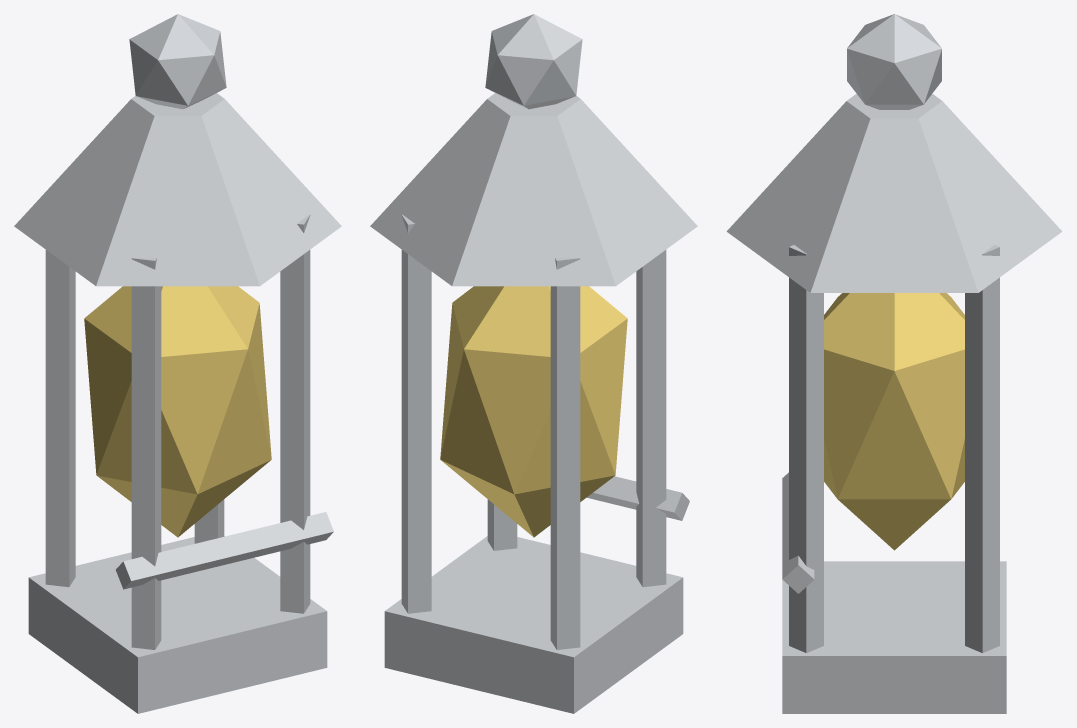
The model's file is ship_lantern.glb.
The picture shows the model from 3 angles, left to right: view 1: azimuth 30°, elevation 25°; view 2: azimuth 150°, elevation 25°; view 3: azimuth 270°, elevation 25°; orthographic projection. The views are drawn at different scales.
Parts seen in each view (by area): view 1: hood, glass, base.007, frame_0.001, frame_1.001, frame_3.001, hook.001, guard, frame_2.001; view 2: hood, base.007, glass, frame_3.001, frame_2.001, frame_0.001, hook.001, guard, frame_1.001; view 3: hood, glass, base.007, frame_2.001, frame_1.001, hook.001, guard.
Part boxes in pixels (x1=…): hood: x1=14, y1=93, x2=341, y2=286; glass: x1=84, y1=286, x2=271, y2=537; base.007: x1=28, y1=536, x2=327, y2=713; frame_0.001: x1=131, y1=258, x2=161, y2=649; frame_1.001: x1=280, y1=214, x2=310, y2=613; frame_3.001: x1=45, y1=250, x2=75, y2=587; hook.001: x1=129, y1=14, x2=226, y2=109; guard: x1=116, y1=512, x2=333, y2=589; frame_2.001: x1=194, y1=499, x2=224, y2=543; hood: x1=370, y1=93, x2=697, y2=286; base.007: x1=384, y1=536, x2=683, y2=713; glass: x1=440, y1=286, x2=627, y2=537; frame_3.001: x1=550, y1=258, x2=580, y2=649; frame_2.001: x1=401, y1=214, x2=431, y2=613; frame_0.001: x1=636, y1=250, x2=666, y2=587; hook.001: x1=485, y1=14, x2=582, y2=109; guard: x1=587, y1=476, x2=689, y2=520; frame_1.001: x1=487, y1=499, x2=517, y2=550; hood: x1=726, y1=94, x2=1062, y2=292; glass: x1=824, y1=293, x2=964, y2=550; base.007: x1=782, y1=561, x2=1006, y2=713; frame_2.001: x1=965, y1=245, x2=999, y2=652; frame_1.001: x1=789, y1=245, x2=823, y2=652; hook.001: x1=847, y1=14, x2=941, y2=109; guard: x1=782, y1=472, x2=814, y2=593.
Bounding box in the file's own units: 0.3637 × 0.9 × 0.42.
